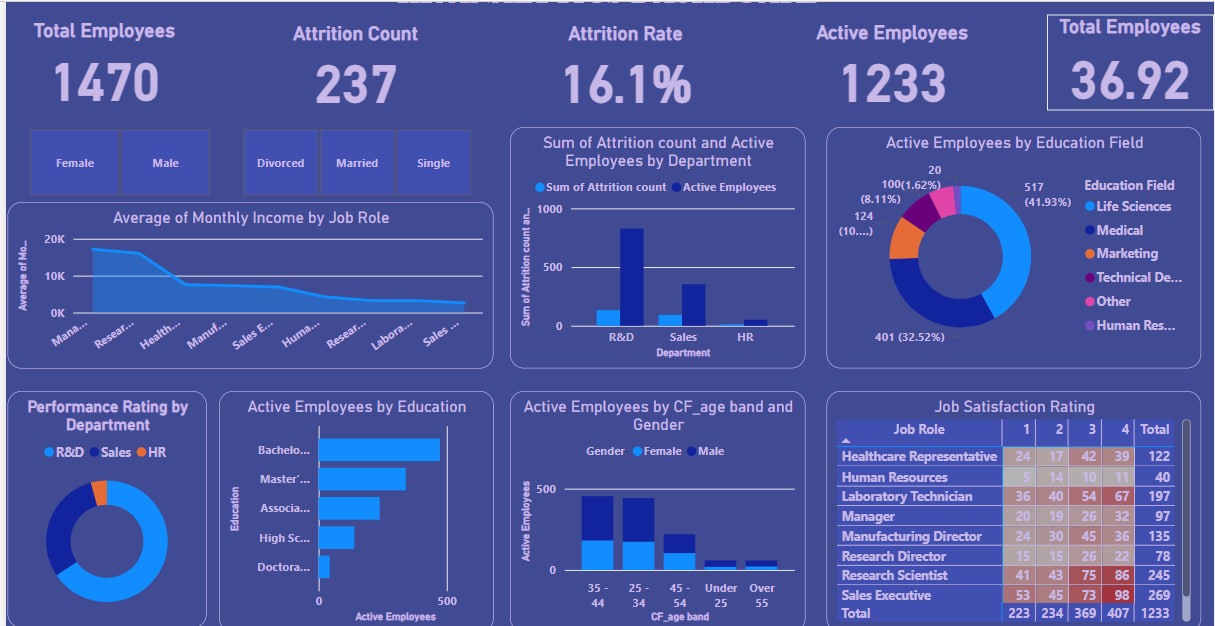

The dashboard page shown, as its layout file describes it:
{"tool":"powerbi","page":{"name":"Page 1","canvas":[1280,720],"ordinal":0},"visuals":[{"type":"card","title":"Total Employees","fields":{"Values":["Sum(HR data.Employee Count)"]},"box":[9.5,69.9,189.5,95.3],"z":0,"group":"g1"},{"type":"card","title":"Attrition Count","fields":{"Values":["Sum(HR data.Attrition count)"]},"box":[284.7,72.6,171.8,94.4],"z":1000,"group":"g1"},{"type":"card","title":"Attrition Rate","fields":{"Values":["HR data.Attrition rate"]},"box":[571.1,72.6,171.8,94.4],"z":2000,"group":"g1"},{"type":"card","title":"Active Employees","fields":{"Values":["HR data.Active Employees"]},"box":[847.6,72,183.7,94.4],"z":3000,"group":"g1"},{"type":"card","title":"Total Employees","fields":{"Values":["Avg(HR data.Age)"]},"box":[1104.2,65.2,176.2,101.7],"z":4000,"group":"g1"},{"type":"clusteredColumnChart","fields":{"Category":["HR data.Department"],"Y":["Sum(HR data.Attrition count)","HR data.Active Employees"]},"box":[534.4,184.5,313.4,256.1],"z":5000},{"type":"donutChart","fields":{"Y":["HR data.Active Employees"],"Category":["HR data.Education Field"]},"box":[870.1,184.5,397.7,256.1],"z":6000},{"type":"columnChart","fields":{"Y":["HR data.Active Employees"],"Category":["HR data.CF_age band"],"Series":["HR data.Gender"]},"box":[534.4,464.5,313.4,256.1],"z":7000},{"type":"pivotTable","title":"Job Satisfaction Rating","fields":{"Rows":["HR data.Job Role"],"Columns":["HR data.Job Satisfaction"],"Values":["HR data.Active Employees"]},"box":[870.1,464.5,397.7,256.1],"z":8000},{"type":"donutChart","title":"Performance Rating by Department","fields":{"Y":["Sum(HR data.Performance Rating)"],"Category":["HR data.Department"]},"box":[1.6,464.5,211.6,251.3],"z":9000},{"type":"clusteredBarChart","fields":{"Category":["HR data.Education"],"Y":["HR data.Active Employees"]},"box":[225.9,464.5,291.1,256.1],"z":10000},{"type":"areaChart","fields":{"Category":["HR data.Job Role"],"Y":["Avg(HR data.Monthly Income)"]},"box":[1.6,264,515.4,176.6],"z":11000},{"type":"slicer","fields":{"Values":["HR data.Gender"]},"box":[0,179.7,240.2,84.3],"z":11001},{"type":"slicer","fields":{"Values":["HR data.Marital Status"]},"box":[225.9,179.7,291.1,84.3],"z":11002},{"type":"group","id":"g1","title":"Group 1","box":[9.5,65.2,1270.9,101.8],"z":11003},{"type":"textbox","box":[1.6,0,1278.9,73.2],"z":11004}]}

Visuals, with their boxes on the page's 1280x720 design canvas (x1, y1, x2, y2). These are canvas units, not pixel positions in the 1215x626 screenshot, which may show the page scaled, cropped or inside an application window:
"Total Employees" card: (left=10, top=70, right=199, bottom=165)
"Attrition Count" card: (left=285, top=73, right=456, bottom=167)
"Attrition Rate" card: (left=571, top=73, right=743, bottom=167)
"Active Employees" card: (left=848, top=72, right=1031, bottom=166)
"Total Employees" card: (left=1104, top=65, right=1280, bottom=167)
clusteredColumnChart - HR data.Department x Sum(HR data.Attrition count): (left=534, top=184, right=848, bottom=441)
donutChart - HR data.Active Employees x HR data.Education Field: (left=870, top=184, right=1268, bottom=441)
columnChart - HR data.Active Employees x HR data.CF_age band: (left=534, top=464, right=848, bottom=721)
"Job Satisfaction Rating" pivotTable: (left=870, top=464, right=1268, bottom=721)
"Performance Rating by Department" donutChart: (left=2, top=464, right=213, bottom=716)
clusteredBarChart - HR data.Education x HR data.Active Employees: (left=226, top=464, right=517, bottom=721)
areaChart - HR data.Job Role x Avg(HR data.Monthly Income): (left=2, top=264, right=517, bottom=441)
slicer - HR data.Gender: (left=0, top=180, right=240, bottom=264)
slicer - HR data.Marital Status: (left=226, top=180, right=517, bottom=264)
"Group 1" group: (left=10, top=65, right=1280, bottom=167)
textbox: (left=2, top=0, right=1280, bottom=73)
